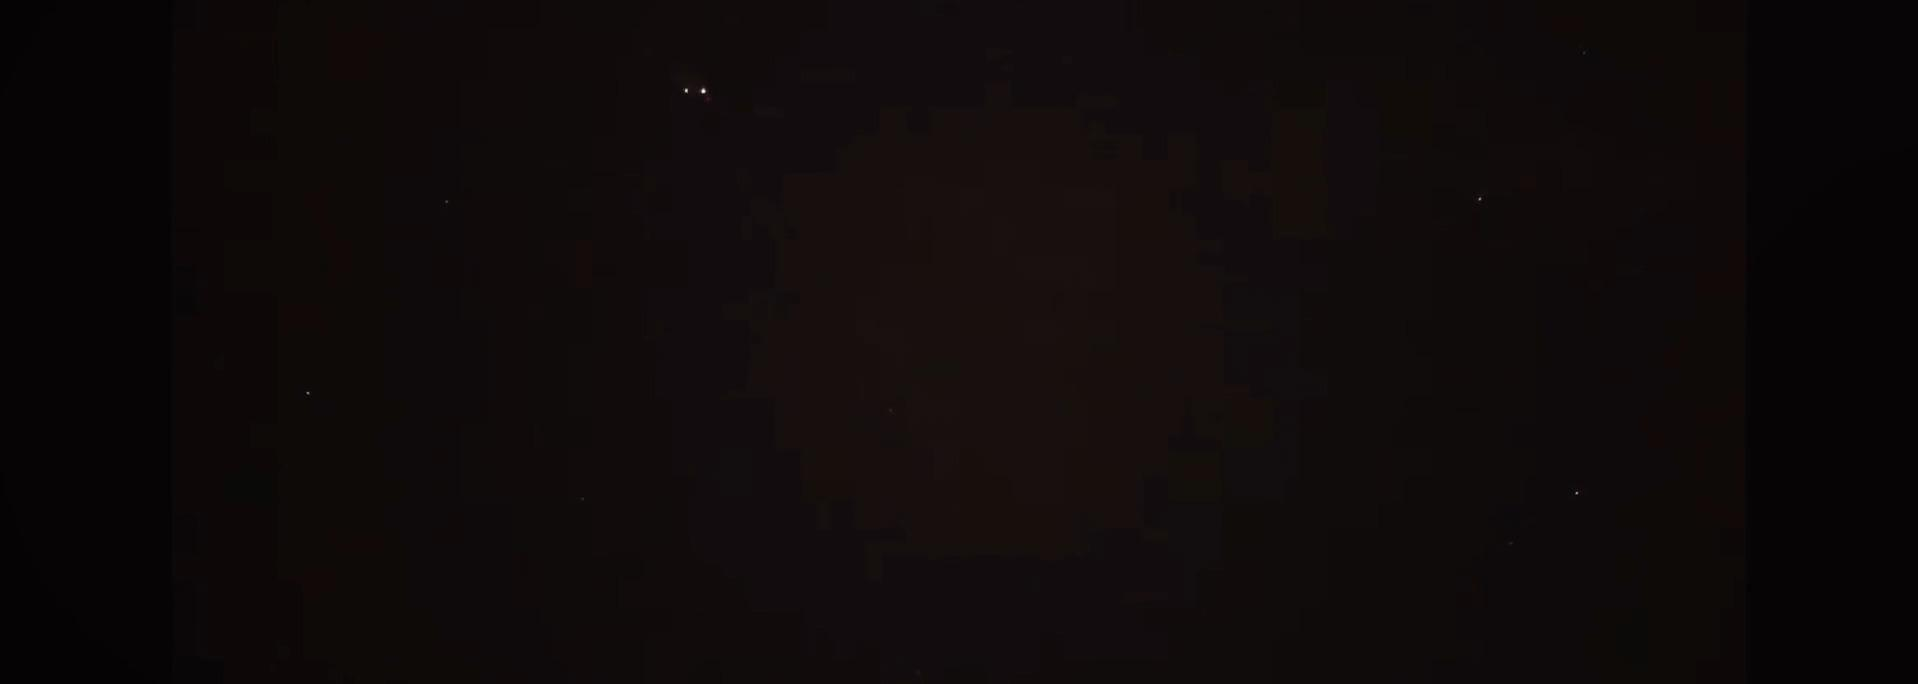Plane: (657, 75, 738, 106)
